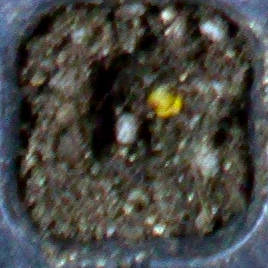pepper seed: (54, 29, 239, 146)
